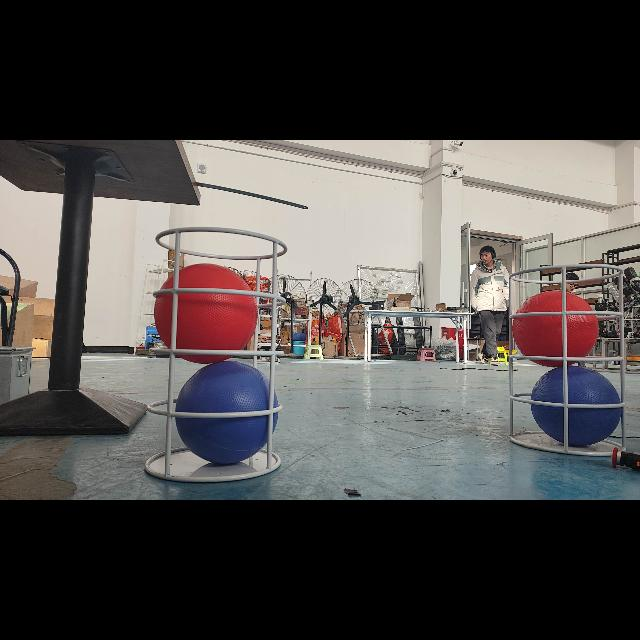B: (172, 361, 282, 464), (530, 367, 626, 447)
R: (154, 264, 258, 364), (512, 290, 600, 368)
S: (143, 221, 289, 484), (504, 260, 632, 462)
